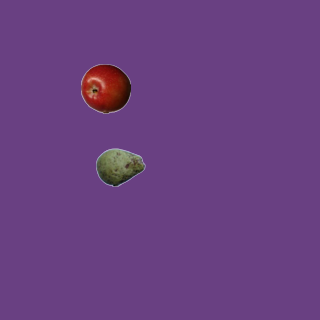Apple Braeburn: (80, 63, 130, 113)
Pear Stone: (95, 142, 145, 192)
